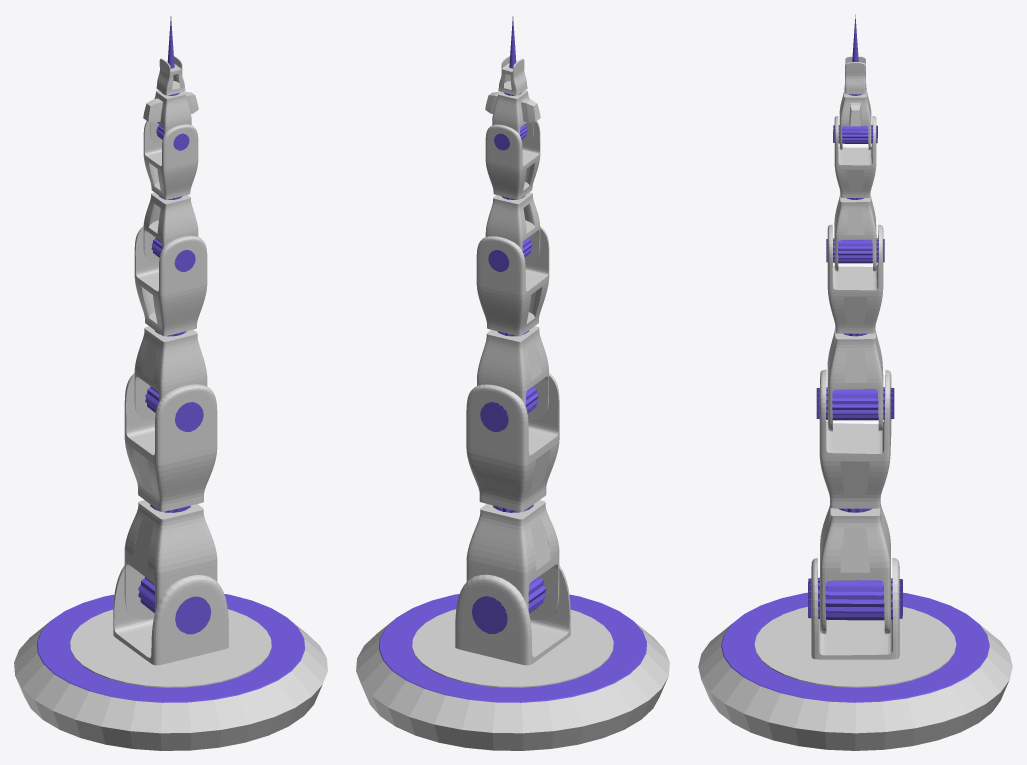
The model's file is Robot2.glb.
3 views of the same model, side by side, from view 1: azimuth 30°, elevation 25°; view 2: azimuth 150°, elevation 25°; view 3: azimuth 270°, elevation 25° (orthographic).
Visible parts, largest first — view 1: Robot-Base, Robot-Base.001, Arm1-B, Arm1-A, Arm-Base, Arm2-B, Arm2-A, Arm3-B, Arm3-A, Arm1-A-Pin, Arm4-A, Arm2-A-Pin (+3 smaller); view 2: Robot-Base, Robot-Base.001, Arm1-B, Arm1-A, Arm-Base, Arm2-B, Arm2-A, Arm3-B, Arm3-A, Arm1-A-Pin, Arm4-A, Arm2-A-Pin (+2 smaller); view 3: Robot-Base, Robot-Base.001, Arm1-B, Arm1-A, Arm-Base, Arm2-B, Arm2-A, Arm1-A-Pin, Arm3-B, Arm3-A, Arm2-A-Pin, Arm3-A-Pin (+3 smaller).
Boxes of the visible parts, x1,y1,x2,y2 form: Robot-Base: [14, 609, 327, 750]; Robot-Base.001: [37, 594, 304, 702]; Arm1-B: [124, 373, 217, 511]; Arm1-A: [124, 500, 217, 619]; Arm-Base: [113, 565, 228, 665]; Arm2-B: [134, 226, 207, 336]; Arm2-A: [134, 326, 207, 419]; Arm3-B: [143, 121, 198, 199]; Arm3-A: [143, 192, 198, 262]; Arm1-A-Pin: [138, 577, 211, 634]; Arm4-A: [150, 90, 191, 143]; Arm2-A-Pin: [145, 386, 203, 431]; Robot-Base: [356, 609, 669, 750]; Robot-Base.001: [379, 594, 646, 702]; Arm1-B: [466, 372, 559, 511]; Arm1-A: [466, 500, 559, 620]; Arm-Base: [455, 565, 570, 665]; Arm2-B: [476, 226, 549, 336]; Arm2-A: [477, 326, 548, 420]; Arm3-B: [485, 121, 540, 199]; Arm3-A: [485, 192, 540, 262]; Arm1-A-Pin: [471, 576, 546, 633]; Arm4-A: [492, 90, 533, 143]; Arm2-A-Pin: [480, 386, 538, 431]; Robot-Base: [698, 607, 1012, 750]; Robot-Base.001: [721, 592, 989, 702]; Arm1-B: [819, 369, 891, 508]; Arm1-A: [820, 504, 890, 634]; Arm-Base: [811, 558, 899, 659]; Arm2-B: [827, 224, 883, 333]; Arm2-A: [827, 324, 883, 431]; Arm1-A-Pin: [808, 577, 902, 620]; Arm3-B: [834, 116, 876, 197]; Arm3-A: [834, 191, 876, 271]; Arm2-A-Pin: [816, 387, 894, 420]; Arm3-A-Pin: [826, 238, 884, 263].
Size of the model in its own units: 2.61 by 6.18 by 2.61.
